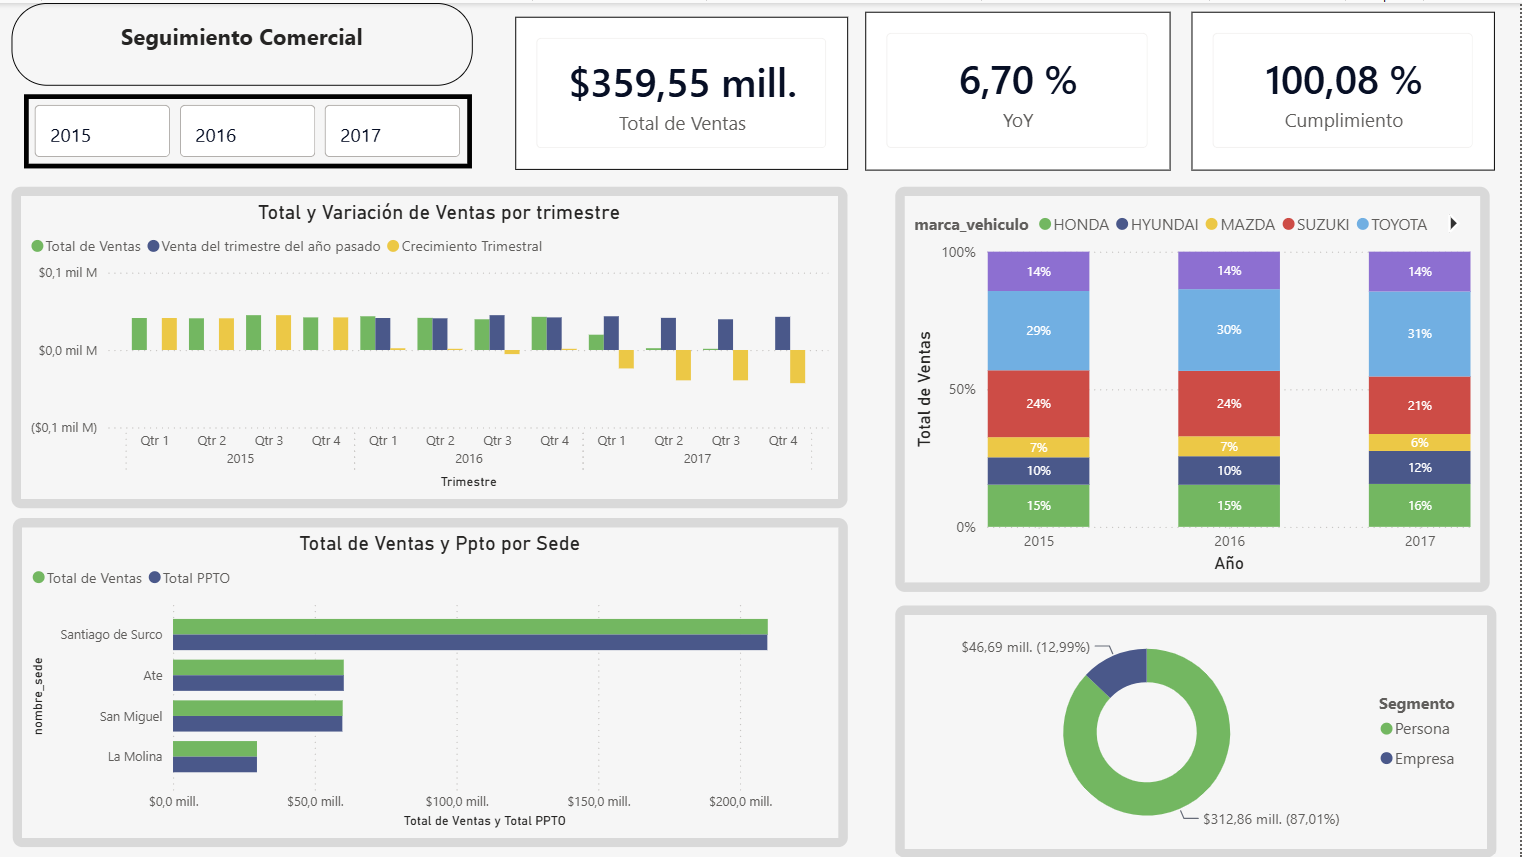

The dashboard page shown, as its layout file describes it:
{"tool":"powerbi","page":{"name":"Sales","canvas":[1280,720],"ordinal":0},"visuals":[{"type":"textbox","box":[10.5,0,388,69.4],"z":0},{"type":"advancedSlicerVisual","fields":{"Values":["DimFechas.Año"]},"box":[21.3,77.2,377.1,62.7],"z":1000},{"type":"cardVisual","fields":{"Data":["Tabla_Medidas.Total de Ventas"]},"box":[433.7,11.6,280.2,129.1],"z":2000},{"type":"cardVisual","fields":{"Data":["Tabla_Medidas.YoY"]},"box":[728.6,7.4,256.5,133.5],"z":3000},{"type":"cardVisual","fields":{"Data":["Tabla_Medidas.Cumplimiento"]},"box":[1003,7.4,255.5,133.5],"z":4000},{"type":"clusteredColumnChart","title":"Total y Variación de Ventas por trimestre","fields":{"Y":["Tabla_Medidas.Total de Ventas","Tabla_Medidas.Venta del trimestre del año pasado","Tabla_Medidas.Crecimiento Trimestral"],"Category":["DimFechas.Date.Variación.Jerarquía de fechas.Año","DimFechas.Date.Variación.Jerarquía de fechas.Trimestre"]},"box":[10.5,154.6,703.4,270.2],"z":5000},{"type":"donutChart","fields":{"Y":["Tabla_Medidas.Total de Ventas"],"Category":["Fact_Ventas.Segmento"]},"box":[752.8,154.6,499.4,270.2],"z":6000},{"type":"clusteredBarChart","title":"Total de Ventas y Ppto por Sede","fields":{"Y":["Tabla_Medidas.Total de Ventas","fact_Presupuestos.Total PPTO"],"Category":["dim_sede.nombre_sede"]},"box":[11.6,433.2,702.3,276.5],"z":7000},{"type":"hundredPercentStackedColumnChart","title":"Total de Ventas por Marca","fields":{"Category":["DimFechas.Date.Variación.Jerarquía de fechas.Año","DimFechas.Date.Variación.Jerarquía de fechas.Trimestre"],"Y":["Tabla_Medidas.Total de Ventas"],"Series":["dim_vehiculo.marca_vehiculo"]},"box":[753,433,499,277],"z":8000}]}

Visuals, with their boxes in screenshot pixels (x1, y1, x2, y2), scaled from the page's 1280x720 canvas onto the 1522x857 screenshot:
textbox: (x1=12, y1=0, x2=474, y2=83)
advancedSlicerVisual - DimFechas.Año: (x1=25, y1=92, x2=474, y2=167)
cardVisual - Tabla_Medidas.Total de Ventas: (x1=516, y1=14, x2=849, y2=167)
cardVisual - Tabla_Medidas.YoY: (x1=866, y1=9, x2=1171, y2=168)
cardVisual - Tabla_Medidas.Cumplimiento: (x1=1193, y1=9, x2=1496, y2=168)
"Total y Variación de Ventas por trimestre" clusteredColumnChart: (x1=12, y1=184, x2=849, y2=506)
donutChart - Tabla_Medidas.Total de Ventas x Fact_Ventas.Segmento: (x1=895, y1=184, x2=1489, y2=506)
"Total de Ventas y Ppto por Sede" clusteredBarChart: (x1=14, y1=516, x2=849, y2=845)
"Total de Ventas por Marca" hundredPercentStackedColumnChart: (x1=895, y1=515, x2=1489, y2=845)
